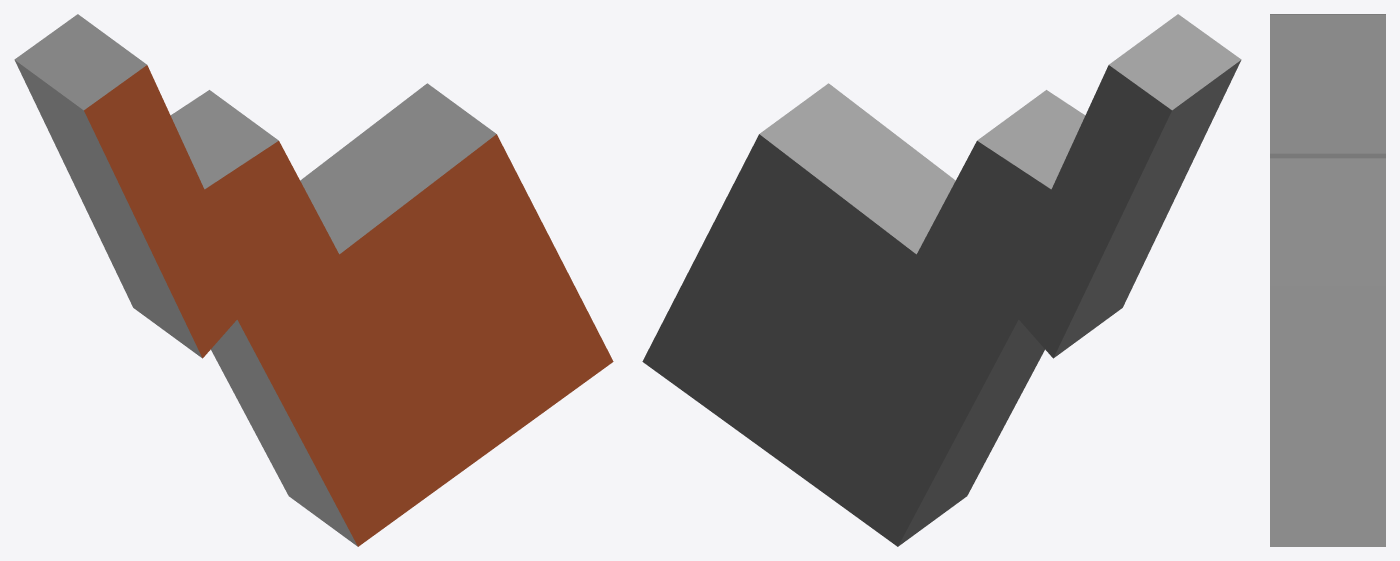
Rendered from construction_4017_assumed_A_Casa_h6m.obj.
3 views of the same model, side by side, from view 1: azimuth 30°, elevation 25°; view 2: azimuth 150°, elevation 25°; view 3: azimuth 270°, elevation 25° (orthographic). The views are drawn at different scales.
Parts seen in each view (by area): view 1: construction_4017_assumed_A_Casa; view 2: construction_4017_assumed_A_Casa; view 3: construction_4017_assumed_A_Casa.
Boxes of the visible parts, left/top/right/bottom form: construction_4017_assumed_A_Casa: left=14, top=14, right=613, bottom=546; construction_4017_assumed_A_Casa: left=642, top=14, right=1241, bottom=546; construction_4017_assumed_A_Casa: left=1270, top=14, right=1385, bottom=546.
Bounding box in the file's own units: 26.43 × 25.43 × 6.
